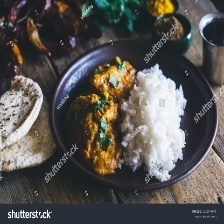roti: (0, 75, 54, 171)
